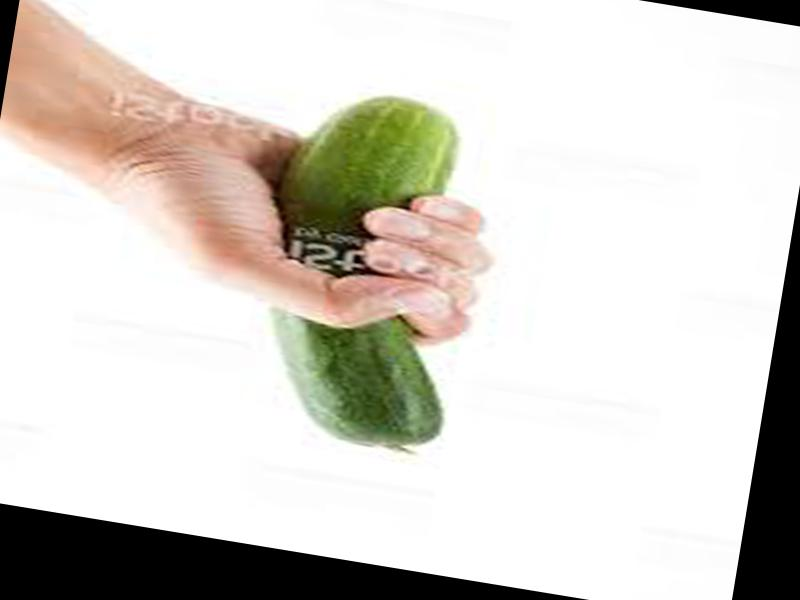Cucumber: (238, 82, 497, 458)
